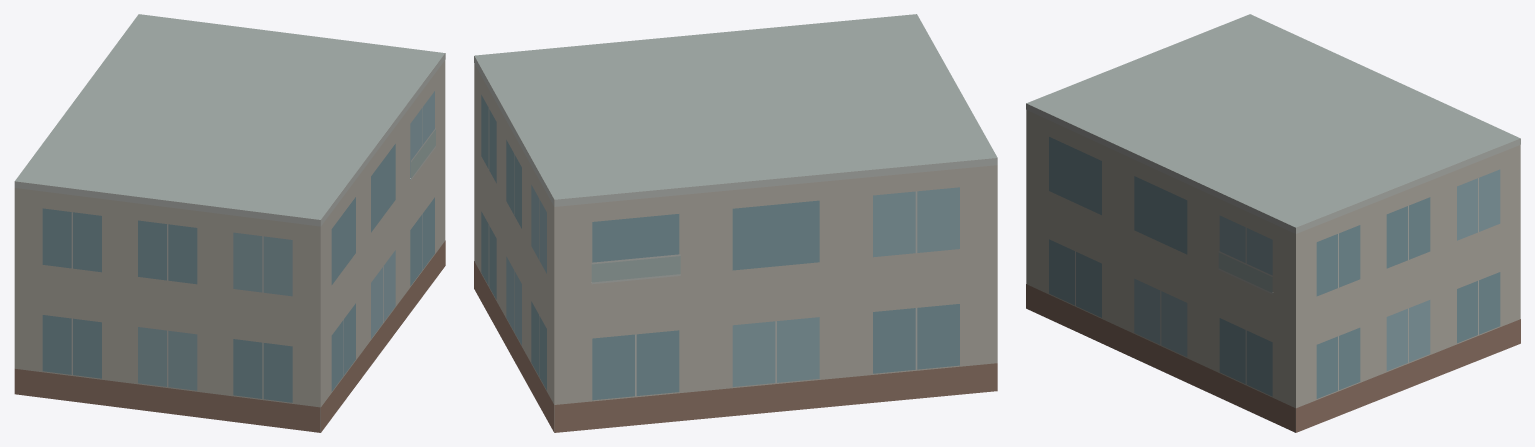
The model's file is survey-upis-32861513.glb.
3 renders of one model, left to right at view 1: azimuth 30°, elevation 25°; view 2: azimuth 150°, elevation 25°; view 3: azimuth 270°, elevation 25°, orthographic. The views are drawn at different scales.
Visible parts, largest first — view 1: survey-upis-32861513.tmp; view 2: survey-upis-32861513.tmp; view 3: survey-upis-32861513.tmp.
Part boxes in pixels (box(x1,y1,x2,y2)): survey-upis-32861513.tmp: box(14, 14, 445, 432); survey-upis-32861513.tmp: box(474, 14, 997, 432); survey-upis-32861513.tmp: box(1026, 14, 1520, 432).
Size of the model in its own units: 17.66 by 7.9 by 17.27.
